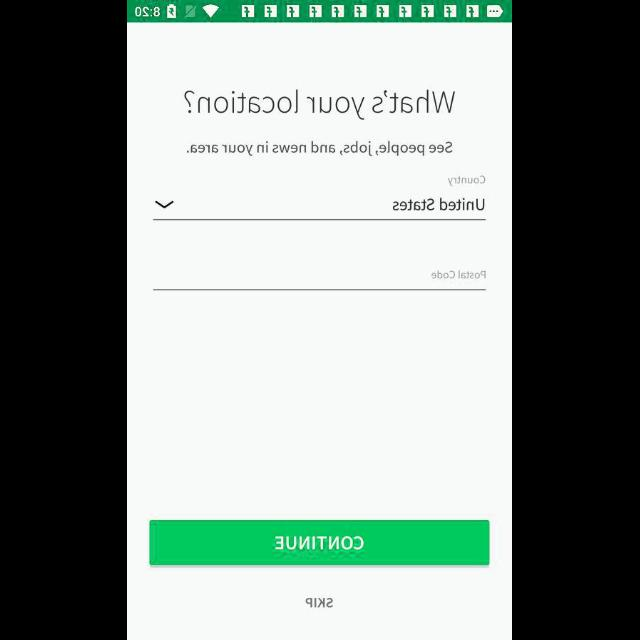icon: (156, 200, 174, 210)
input: (154, 198, 486, 220), (154, 270, 486, 290)
text: (184, 90, 456, 120), (186, 140, 454, 158), (394, 198, 484, 210), (432, 271, 486, 279), (448, 176, 486, 187), (306, 598, 334, 608)
textbutton: (150, 520, 490, 566)
uppertaskbar: (128, 1, 512, 23)
